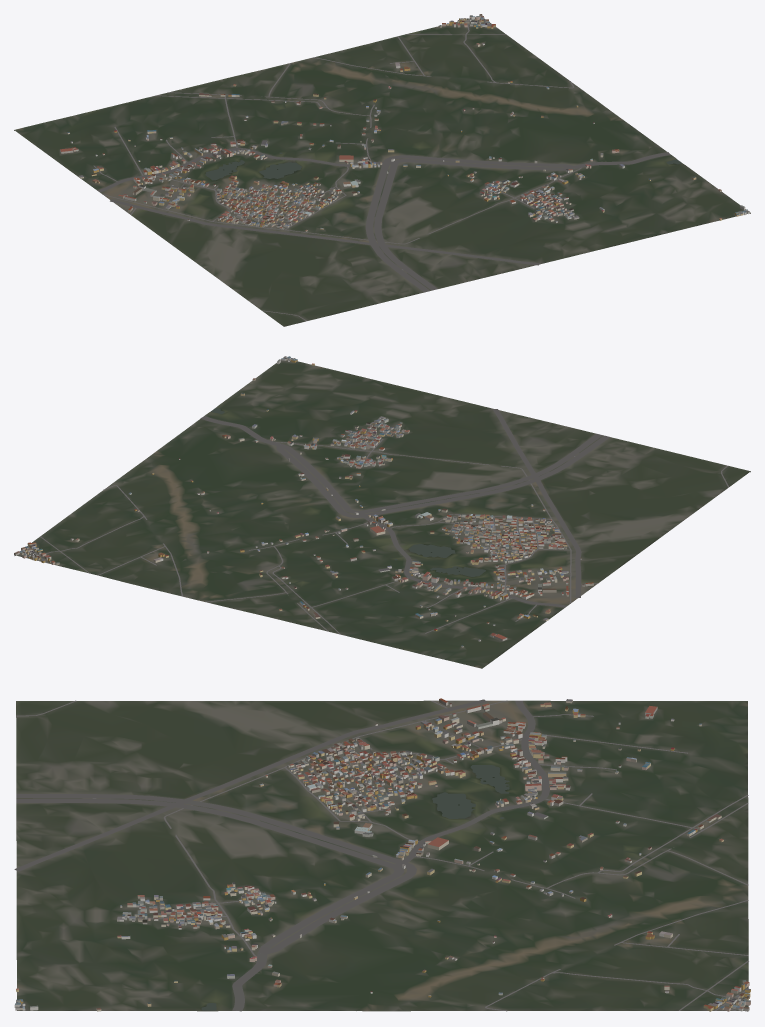
3 renders of one model, top to bottom at view 1: azimuth 30°, elevation 25°; view 2: azimuth 150°, elevation 25°; view 3: azimuth 270°, elevation 25°, orthographic. The views are drawn at different scales.
Visible parts, largest first — view 1: ground, buildings, roads, water; view 2: ground, buildings, roads, water; view 3: ground, buildings, roads, water.
Boxes of the visible parts, <box> form: ground: <box>14,17,750,326</box>; buildings: <box>60,14,750,231</box>; roads: <box>93,19,670,321</box>; water: <box>205,152,681,180</box>; ground: <box>17,360,750,668</box>; buildings: <box>14,356,593,647</box>; roads: <box>27,409,728,634</box>; water: <box>211,408,485,576</box>; ground: <box>16,700,748,1011</box>; buildings: <box>14,698,750,1011</box>; roads: <box>14,699,748,1011</box>; water: <box>201,765,509,1010</box>.
Size of the model in its own units: 1412 by 17.36 by 1412.
